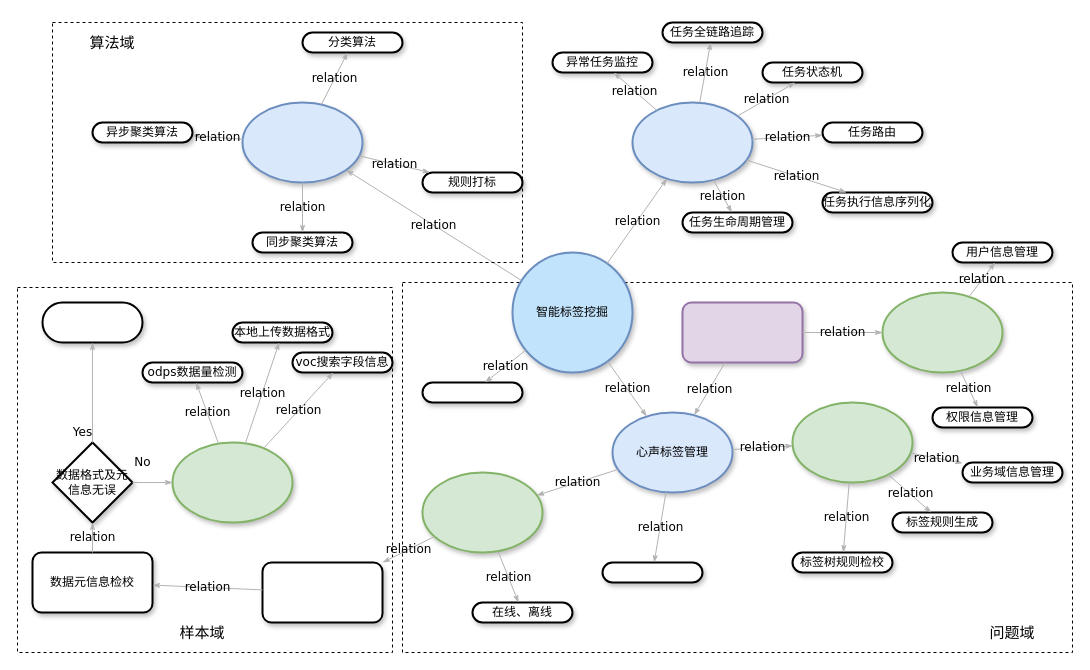
Image size: 1090x670. Some labels were removed from this diagram. The shapes that lost their labels are listed below. From the top down, each one's centre as x and y in pixels, then its label:
At (303,143): "分类、聚类算法 A/B测试".
At (693,143): "离线任务调度".
At (93,323): "End".
At (743,333): "小二协同编辑标签".
At (943,333): "用户权限管理".
At (473,393): "规则上线".
At (853,443): "业务标签管理".
At (233,483): "数据集及元信息".
At (483,513): "数据样本管理".
At (323,593): "数据集导入".
At (653,573): "上线、下线".
